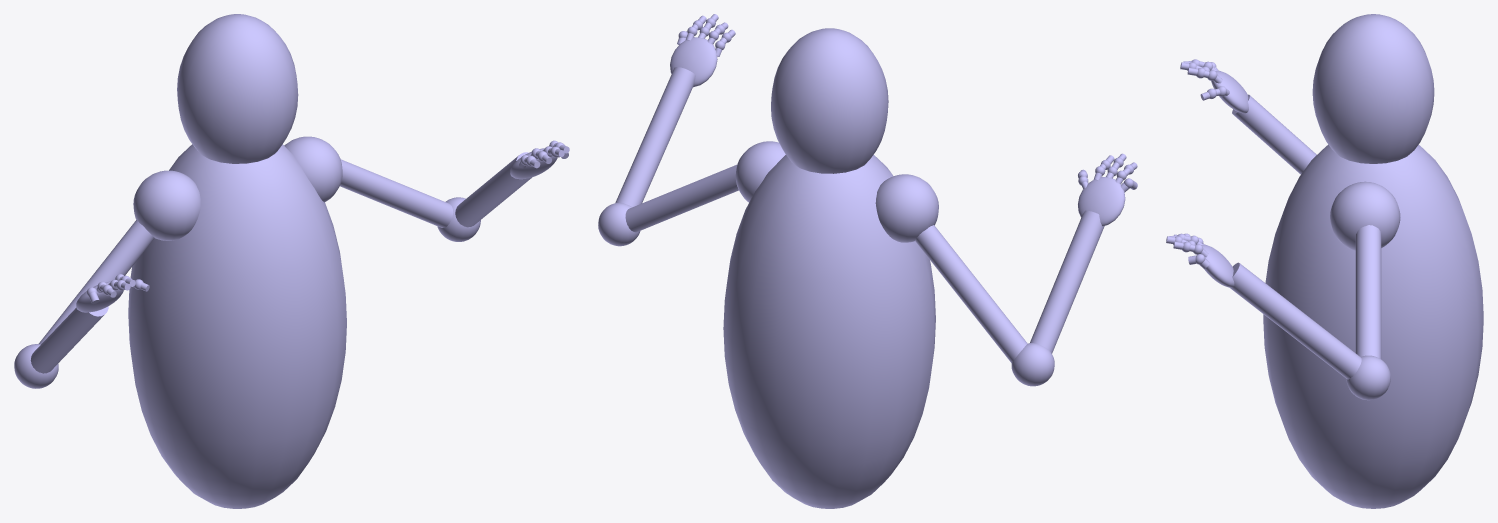
File: GhostStatic.FBX
The picture shows the model from 3 angles, left to right: view 1: azimuth 30°, elevation 25°; view 2: azimuth 150°, elevation 25°; view 3: azimuth 270°, elevation 25°; orthographic projection. The views are drawn at different scales.
Parts seen in each view (by area): view 1: Ghost; view 2: Ghost; view 3: Ghost.
Part boxes in pixels (bbox=[...]): Ghost: bbox=[14, 14, 569, 508]; Ghost: bbox=[598, 14, 1137, 508]; Ghost: bbox=[1166, 14, 1483, 508].
Size of what is drawn, in the model's own units: 32.5 by 18.9 by 31.87.
